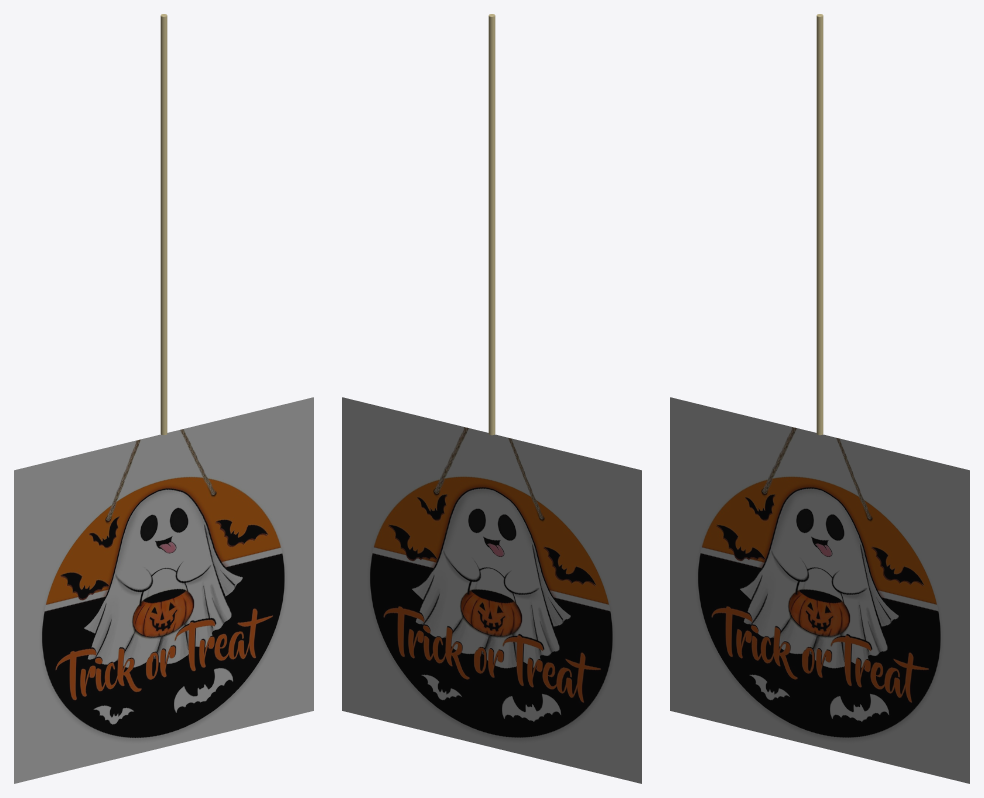
The model's file is B0DXVH7Y6S.glb.
3 renders of one model, left to right at view 1: azimuth 30°, elevation 25°; view 2: azimuth 150°, elevation 25°; view 3: azimuth 330°, elevation 25°, orthographic.
Visible parts, largest first — view 1: photo, string; view 2: photo, string; view 3: photo, string.
Boxes of the visible parts, x1,y1,x2,y2 form: photo: [14, 397, 313, 783]; string: [160, 14, 167, 435]; photo: [342, 397, 641, 783]; string: [488, 14, 495, 435]; photo: [670, 397, 969, 783]; string: [816, 14, 823, 435].
Size of the model in its own units: 0.3 by 0.7 by 0.006.
1 material, 1 textured.
